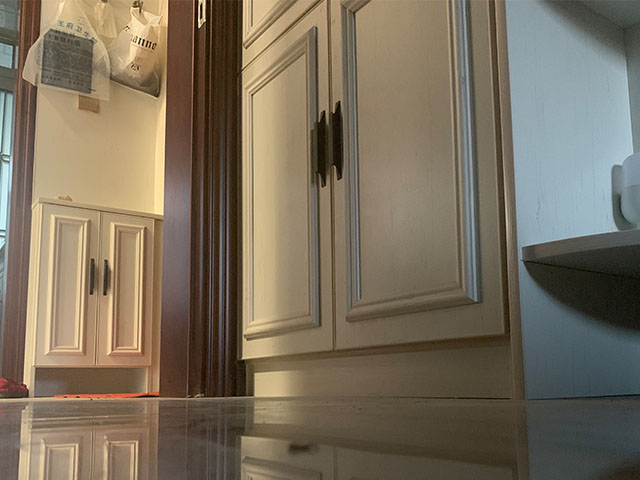cabinet: (236, 1, 640, 401), (23, 196, 165, 398)
carpet: (51, 391, 160, 400)
